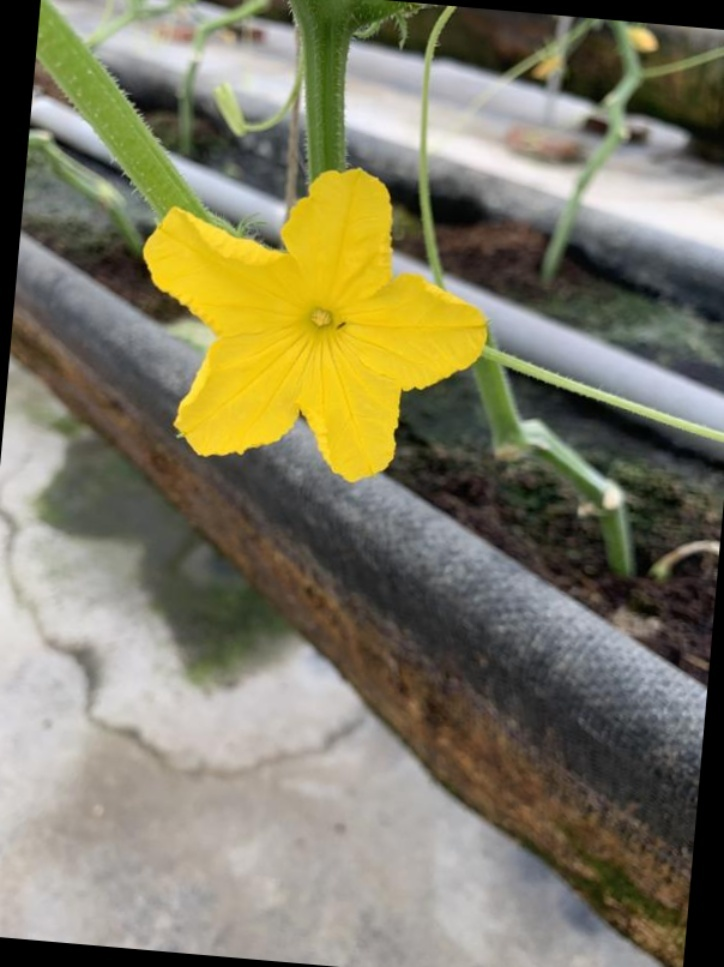flowering: (147, 149, 496, 483)
